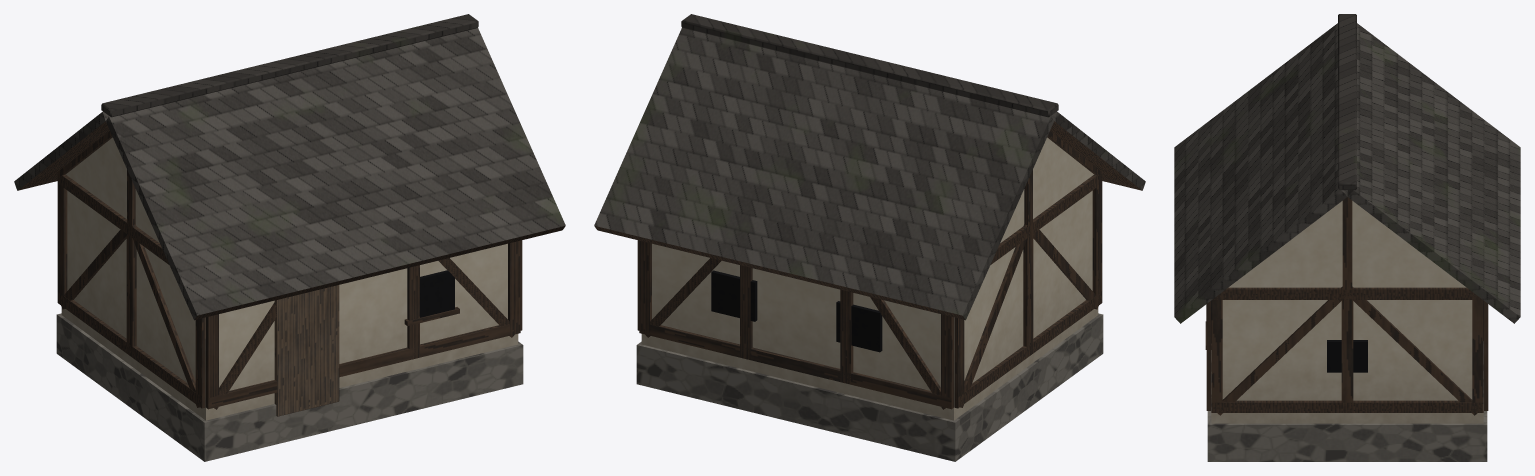
Rendered from SM_House_C.glb.
3 renders of one model, left to right at view 1: azimuth 30°, elevation 25°; view 2: azimuth 150°, elevation 25°; view 3: azimuth 270°, elevation 25°, orthographic. The views are drawn at different scales.
Visible parts, largest first — view 1: SM_House_C; view 2: SM_House_C; view 3: SM_House_C.
Boxes of the visible parts, x1=… form: SM_House_C: x1=14, y1=14, x2=565, y2=461; SM_House_C: x1=594, y1=14, x2=1145, y2=461; SM_House_C: x1=1174, y1=14, x2=1520, y2=461.
Bounding box in the file's own units: 5.9 × 4.7 × 5.08.
Materials: 1 (1 with a texture image).
